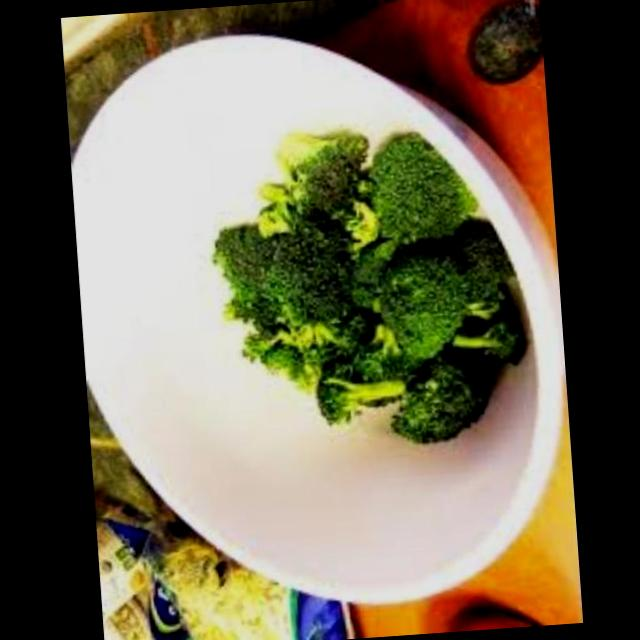Broccoli: (204, 124, 541, 482)
